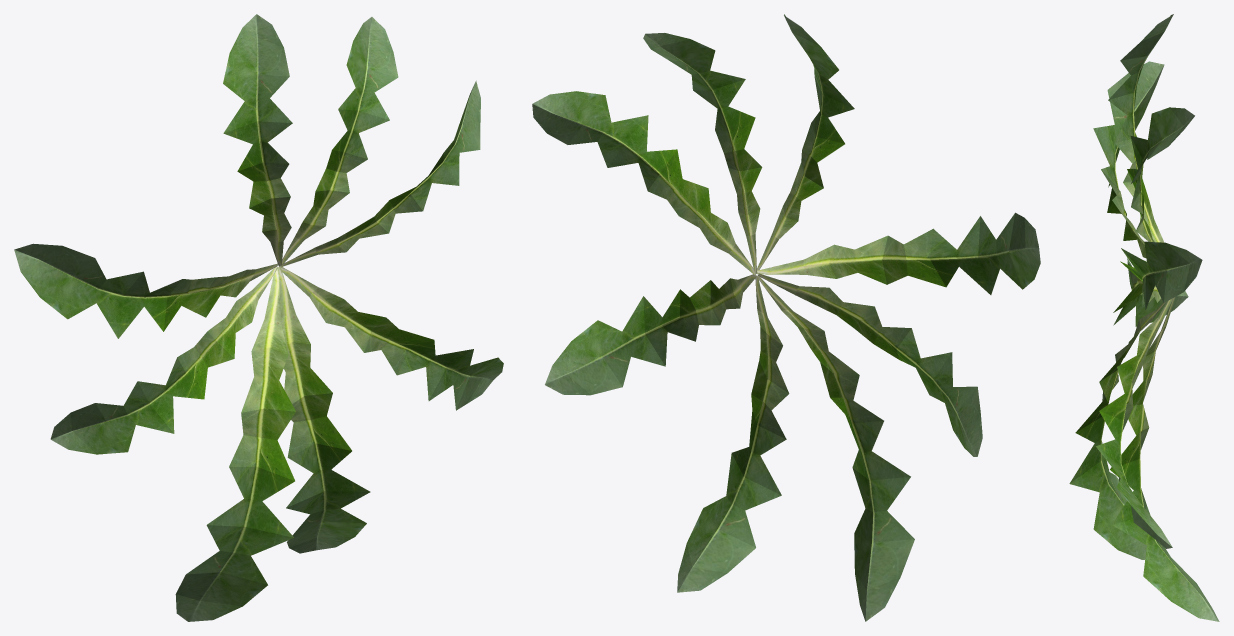
File: taraxacum_06.obj
3 views of the same model, side by side, from view 1: azimuth 30°, elevation 25°; view 2: azimuth 150°, elevation 25°; view 3: azimuth 270°, elevation 25° (orthographic). The views are drawn at different scales.
Parts seen in each view (by area): view 1: taraxacum.005; view 2: taraxacum.005; view 3: taraxacum.005.
Boxes of the visible parts, <box> form: taraxacum.005: <box>14,14,503,621</box>; taraxacum.005: <box>532,14,1040,621</box>; taraxacum.005: <box>1069,14,1219,621</box>.
Bounding box in the file's own units: 0.2302 × 0.2659 × 0.0624.
